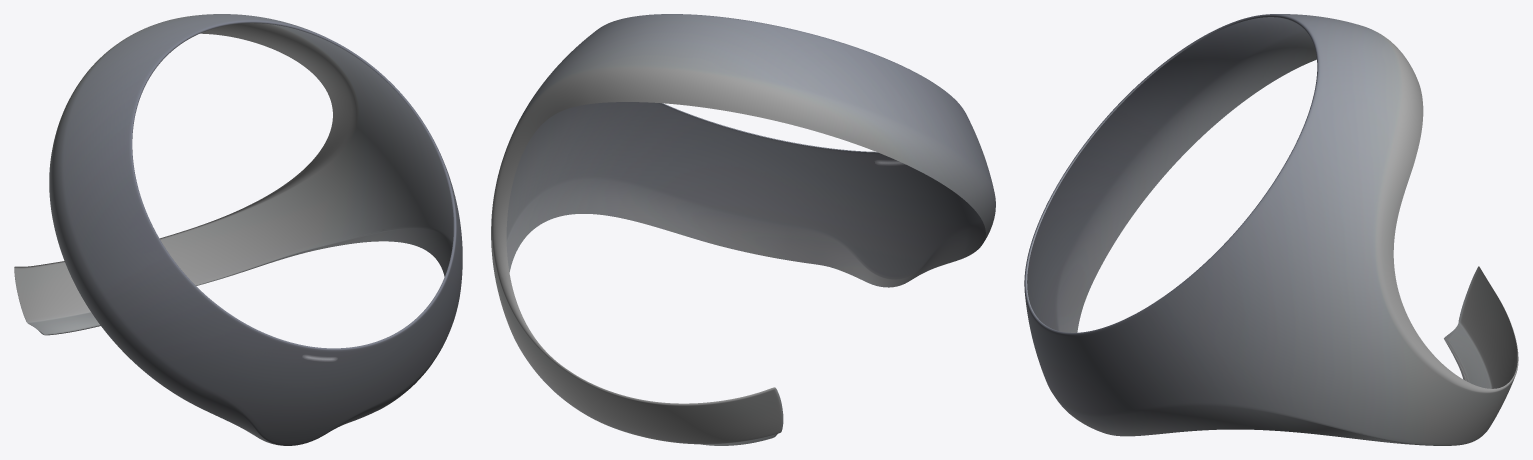
Rendered from playstation_vr2_sense_right_body_outer.obj.
3 views of the same model, side by side, from view 1: azimuth 30°, elevation 25°; view 2: azimuth 150°, elevation 25°; view 3: azimuth 270°, elevation 25° (orthographic). The views are drawn at different scales.
Visible parts, largest first — view 1: mesh_sensecontroller_outer_R; view 2: mesh_sensecontroller_outer_R; view 3: mesh_sensecontroller_outer_R.
Boxes of the visible parts, bbox=[...] form: mesh_sensecontroller_outer_R: bbox=[14, 14, 462, 445]; mesh_sensecontroller_outer_R: bbox=[491, 14, 995, 445]; mesh_sensecontroller_outer_R: bbox=[1024, 14, 1518, 445].
Size of the model in its own units: 0.1283 by 0.1057 by 0.1275.
1 material, 1 textured.
